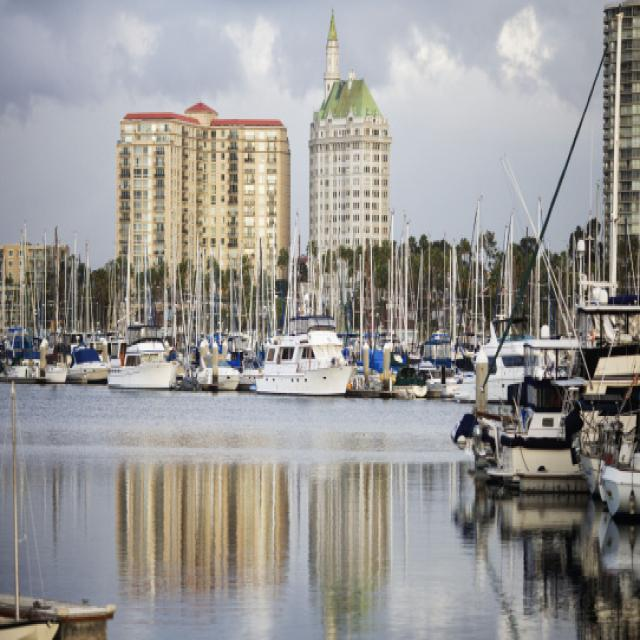houseboat: (247, 322, 368, 388), (594, 356, 640, 519), (108, 324, 166, 396)
